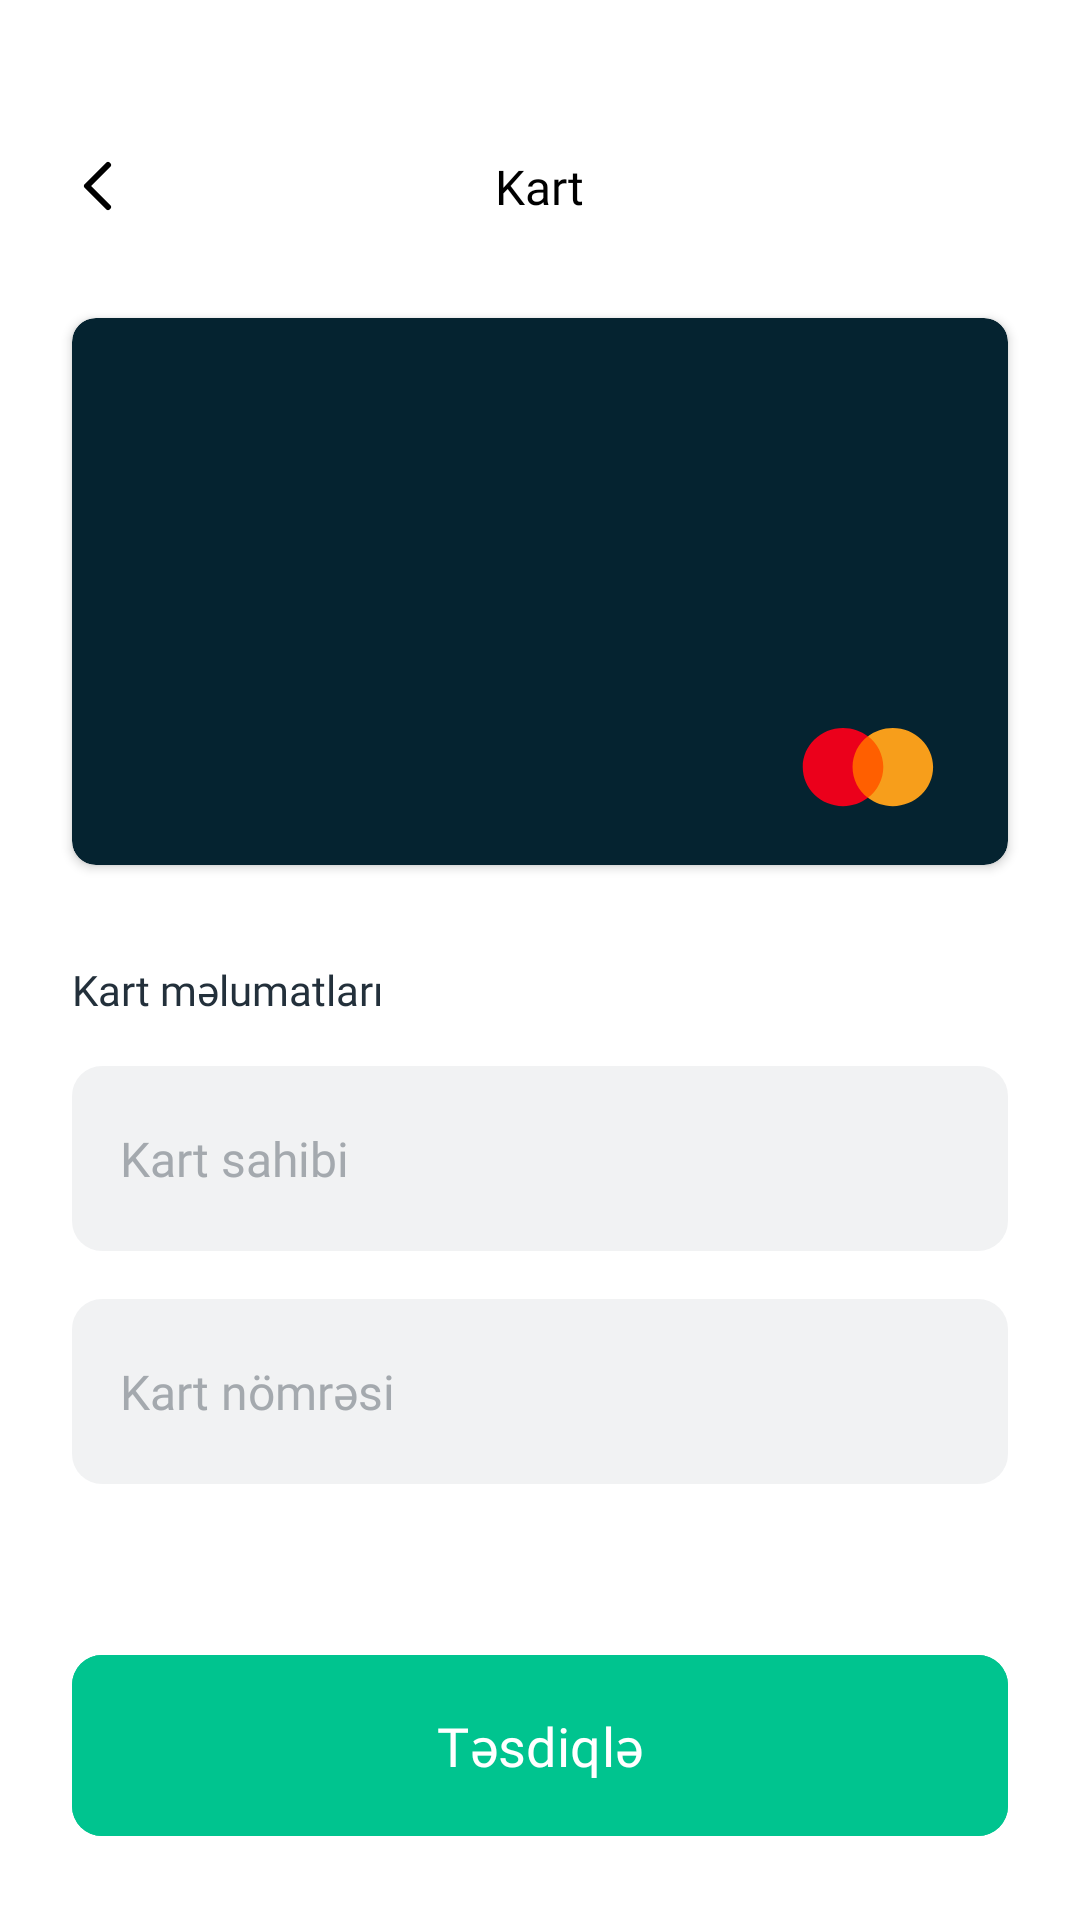

Named icons in this screenshot (1080x1920) and their bounding boxes, (x1,y1,x2,y2):
back: (84,162,111,210)
